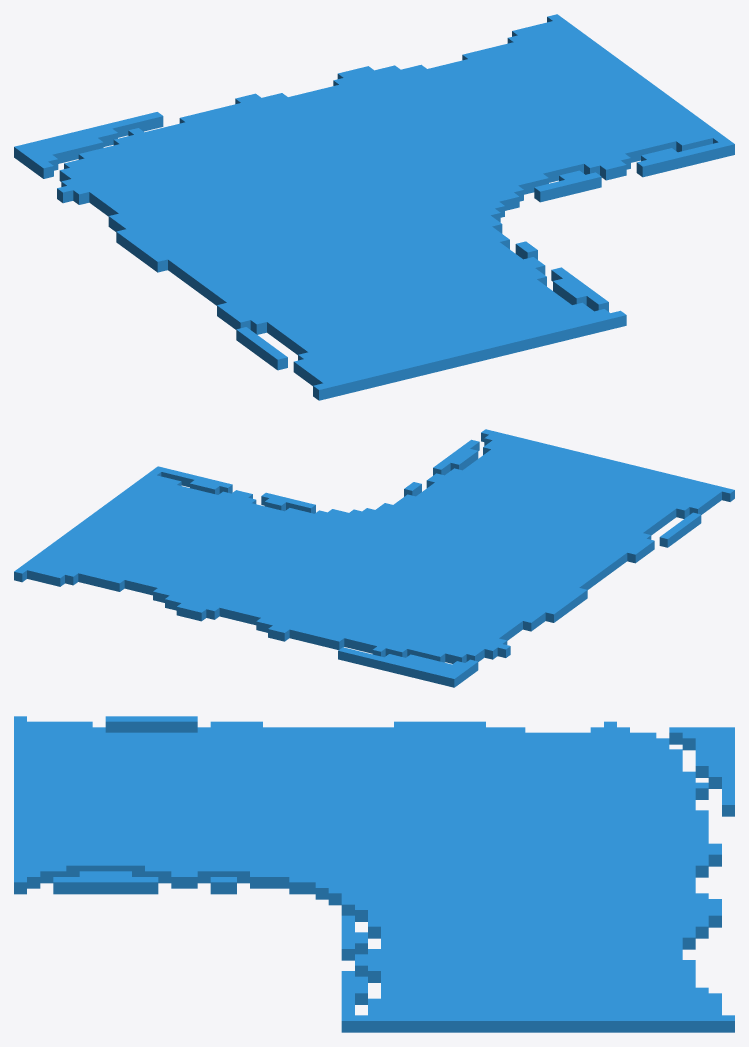
File: river_2_reflection.obj
The picture shows the model from 3 angles, top to bottom: view 1: azimuth 30°, elevation 25°; view 2: azimuth 150°, elevation 25°; view 3: azimuth 270°, elevation 25°; orthographic projection. The views are drawn at different scales.
Size of the model in its own units: 5.5 by 0.1 by 5.5.
